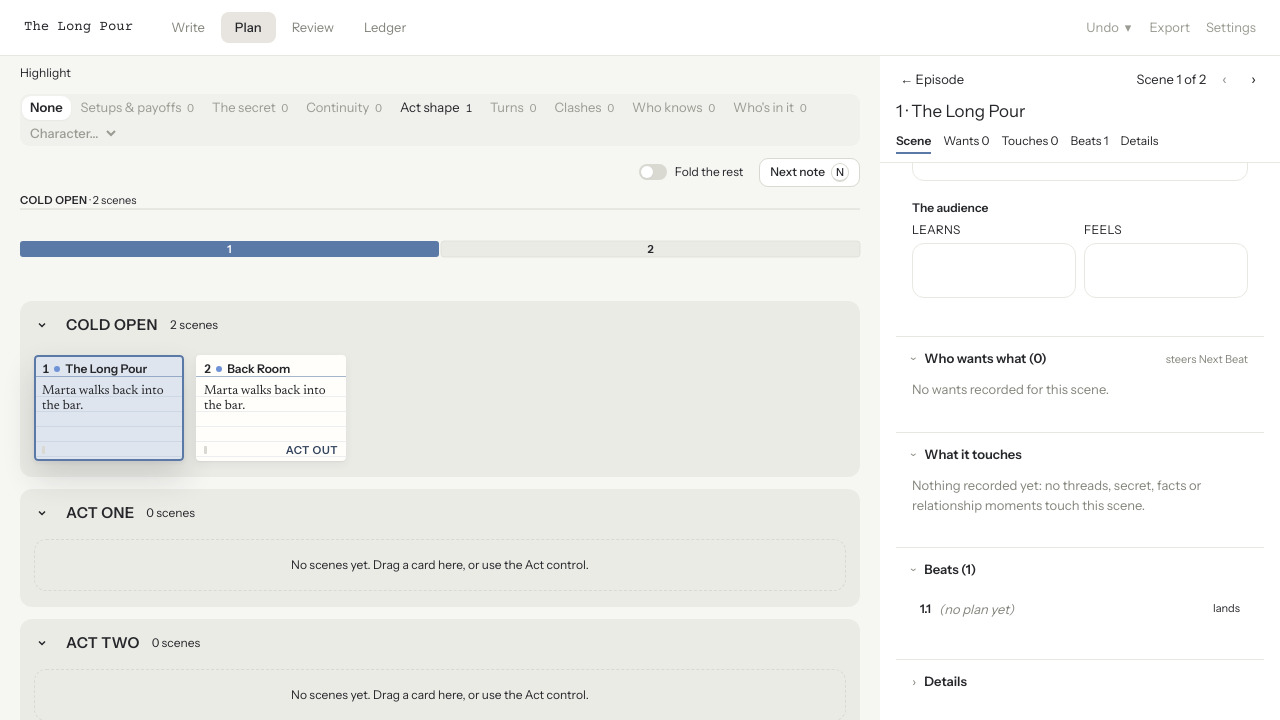
Scenario: PlanScreen › the Beat lock in the ladder sends one PATCH for beat.locked
(page scrolled)
What coordinates should you click on to do the following:
click the button with test id "beat-card-beat-1-1"
I would click on:
 (976, 608)
Its box is 912,592 -> 1248,627.
(page scrolled)
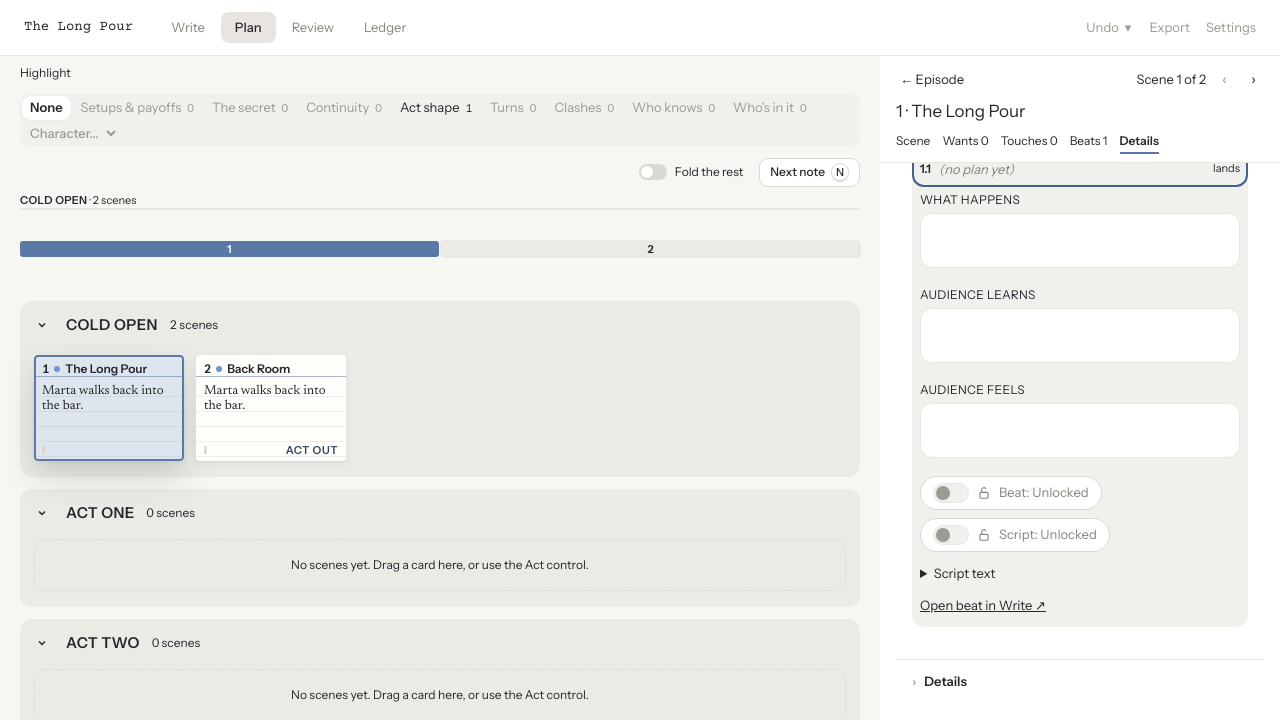
What coordinates should you click on to do the following:
click the switch with test id "beat-lock-toggle-beat-1-1"
I would click on:
 (1011, 493)
Its box is 920,476 -> 1102,510.
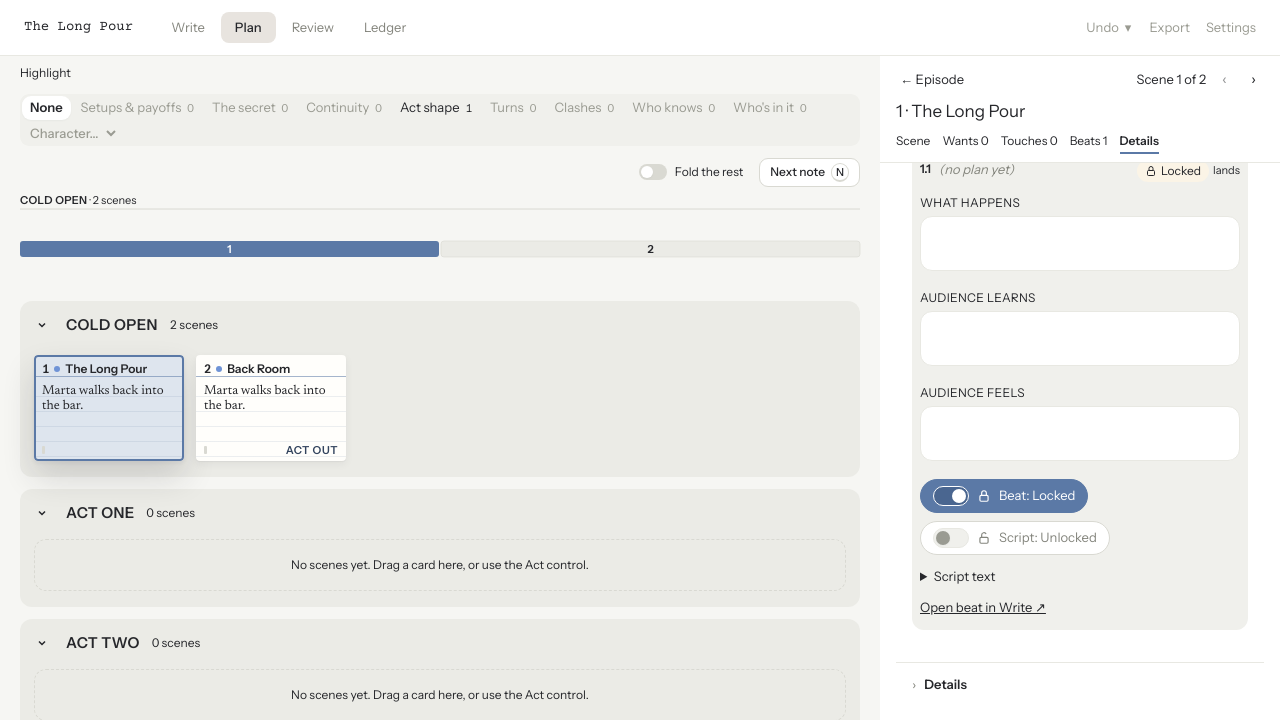
Expected: the button with test id "beat-card-beat-1-1" shows "Locked", 912,152 -> 1248,190
